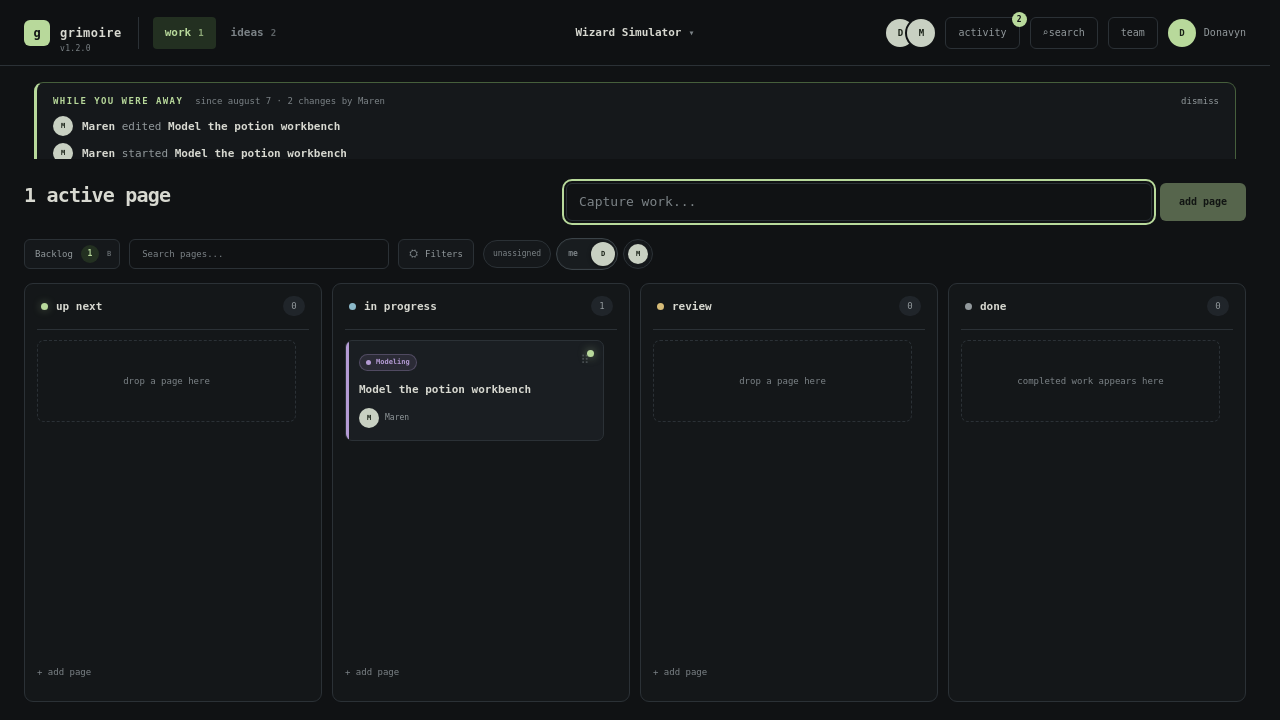
while you were away - quiet signals › shows the digest, marks changed pages, and dismiss clears everything at once
The width and height of the screenshot is (1280, 720).
Expected: the element "while you were away" shows "2 changes by Maren", [34,82,1236,172]
Click the button with aria-label "Dismiss the away summary".
click(1200, 101)  # box [1181,96,1219,106]
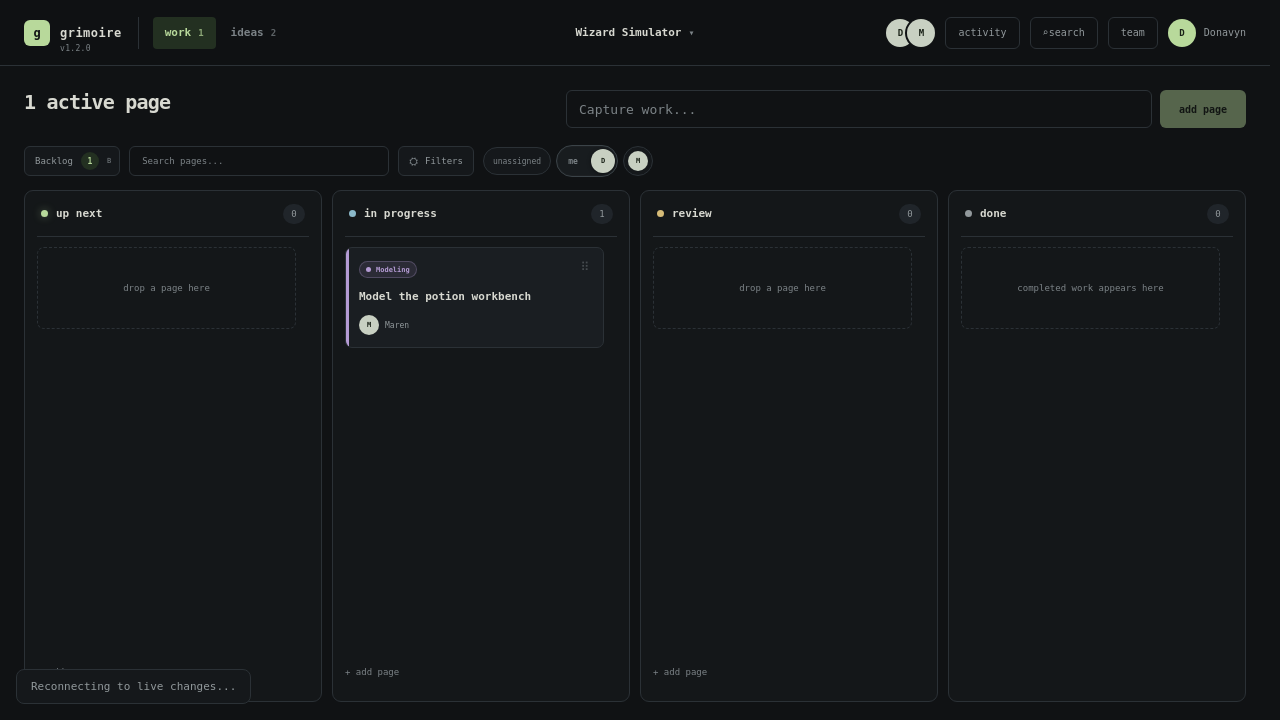
Result: the text "while you were away" is gone
